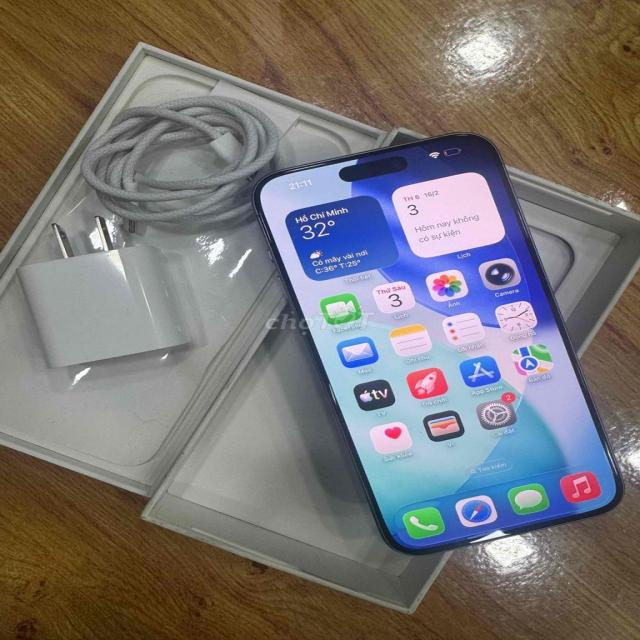gen_15: (225, 121, 633, 575)
